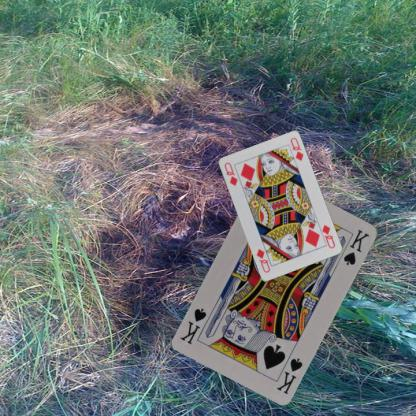Ks: (273, 355, 304, 396)
Qd: (316, 222, 336, 249), (221, 160, 239, 187)
